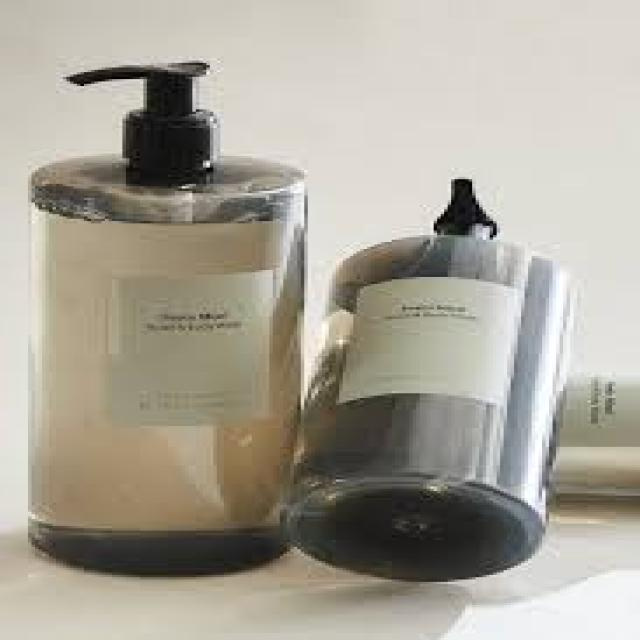liquid soap: (21, 47, 318, 587), (298, 172, 576, 587)
